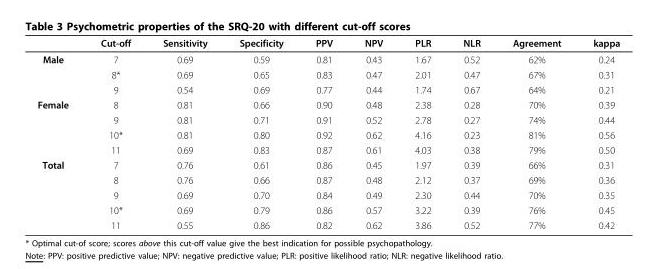table: (36, 36, 619, 230)
table column: (495, 36, 576, 230), (146, 36, 222, 230), (222, 36, 298, 230), (84, 36, 146, 230), (298, 36, 348, 230), (348, 36, 398, 230), (446, 36, 495, 230), (36, 36, 84, 230), (398, 36, 446, 230), (576, 36, 619, 230)
table column header: (36, 36, 619, 50)
table row: (36, 50, 619, 66), (36, 96, 619, 112), (36, 66, 619, 81), (36, 81, 619, 96), (36, 112, 619, 127), (36, 127, 619, 142), (36, 142, 619, 157), (36, 157, 619, 172), (36, 172, 619, 187), (36, 187, 619, 202), (36, 202, 619, 217), (36, 36, 619, 50), (36, 217, 619, 230)
table spanning cell: (36, 157, 84, 230), (36, 96, 84, 157), (36, 50, 84, 96)
